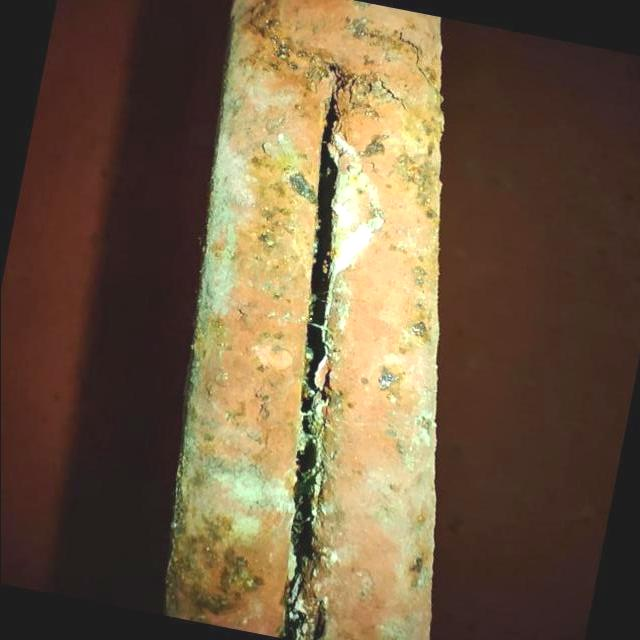defect: (272, 92, 348, 639), (394, 29, 433, 88), (373, 77, 410, 115)
